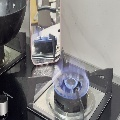fire: (52, 58, 89, 99)
